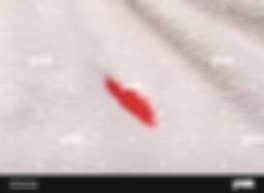blood: (103, 77, 159, 128)
